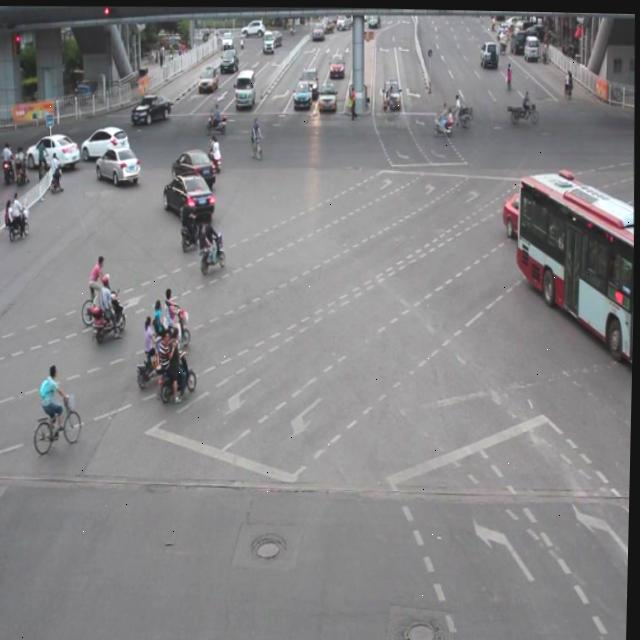car: (164, 169, 215, 219), (95, 143, 142, 183), (82, 123, 131, 160), (172, 146, 216, 187), (130, 91, 171, 125), (502, 187, 528, 236)
van: (513, 169, 637, 372)
